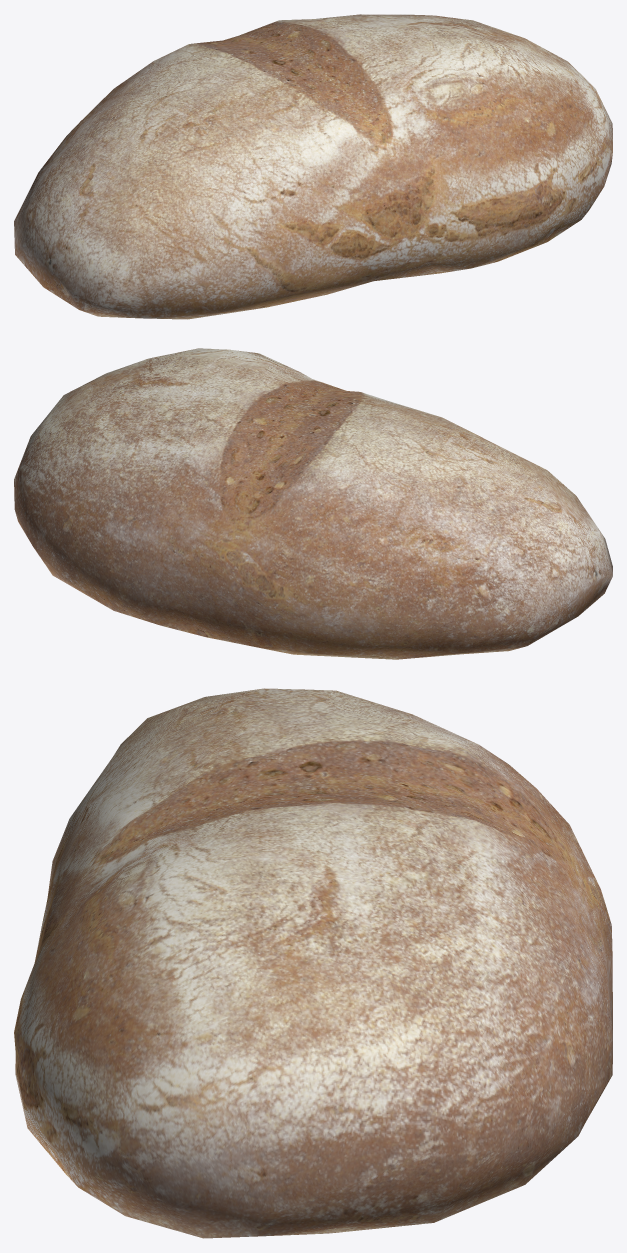
File: 3DBread003_LQ-1K-JPG.obj
The picture shows the model from 3 angles, top to bottom: view 1: azimuth 30°, elevation 25°; view 2: azimuth 150°, elevation 25°; view 3: azimuth 270°, elevation 25°; orthographic projection. The views are drawn at different scales.
Visible parts, largest first — view 1: 3DBread003_LQ-1K-JPG; view 2: 3DBread003_LQ-1K-JPG; view 3: 3DBread003_LQ-1K-JPG.
Boxes of the visible parts, x1=… form: 3DBread003_LQ-1K-JPG: x1=14, y1=14, x2=612, y2=319; 3DBread003_LQ-1K-JPG: x1=14, y1=348, x2=612, y2=659; 3DBread003_LQ-1K-JPG: x1=14, y1=688, x2=612, y2=1238.
Size of the model in its own units: 0.3217 by 0.1042 by 0.1929.
Materials: 1 (1 with a texture image).
